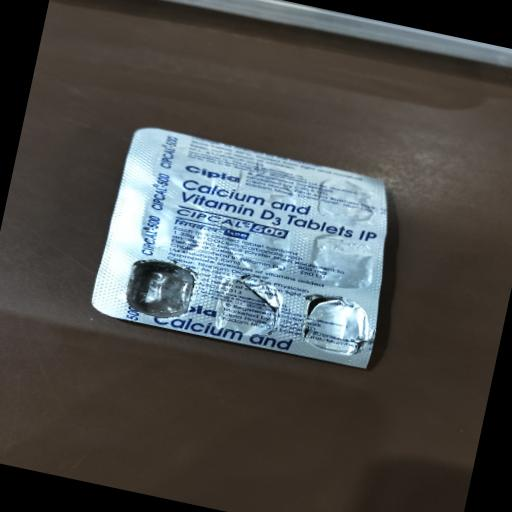cipcal: (176, 204, 290, 240)
medicine: (111, 128, 384, 358)
